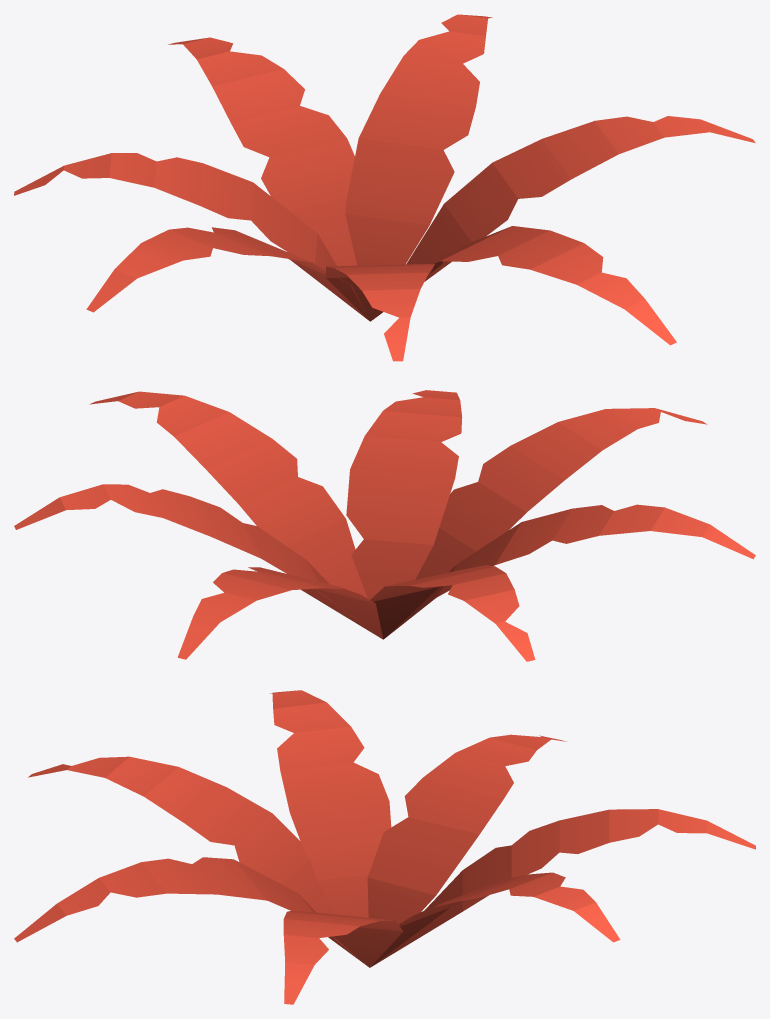
The model's file is RedFern.fbx.
3 views of the same model, one above another, from view 1: azimuth 30°, elevation 25°; view 2: azimuth 150°, elevation 25°; view 3: azimuth 270°, elevation 25° (orthographic). The views are drawn at different scales.
Visible parts, largest first — view 1: RedFern; view 2: RedFern; view 3: RedFern.
Part boxes in pixels (x1,y1,x2,y2): RedFern: (14, 14, 755, 361); RedFern: (14, 390, 755, 661); RedFern: (14, 690, 755, 1004).
Bounding box in the file's own units: 433 × 106 × 434.
